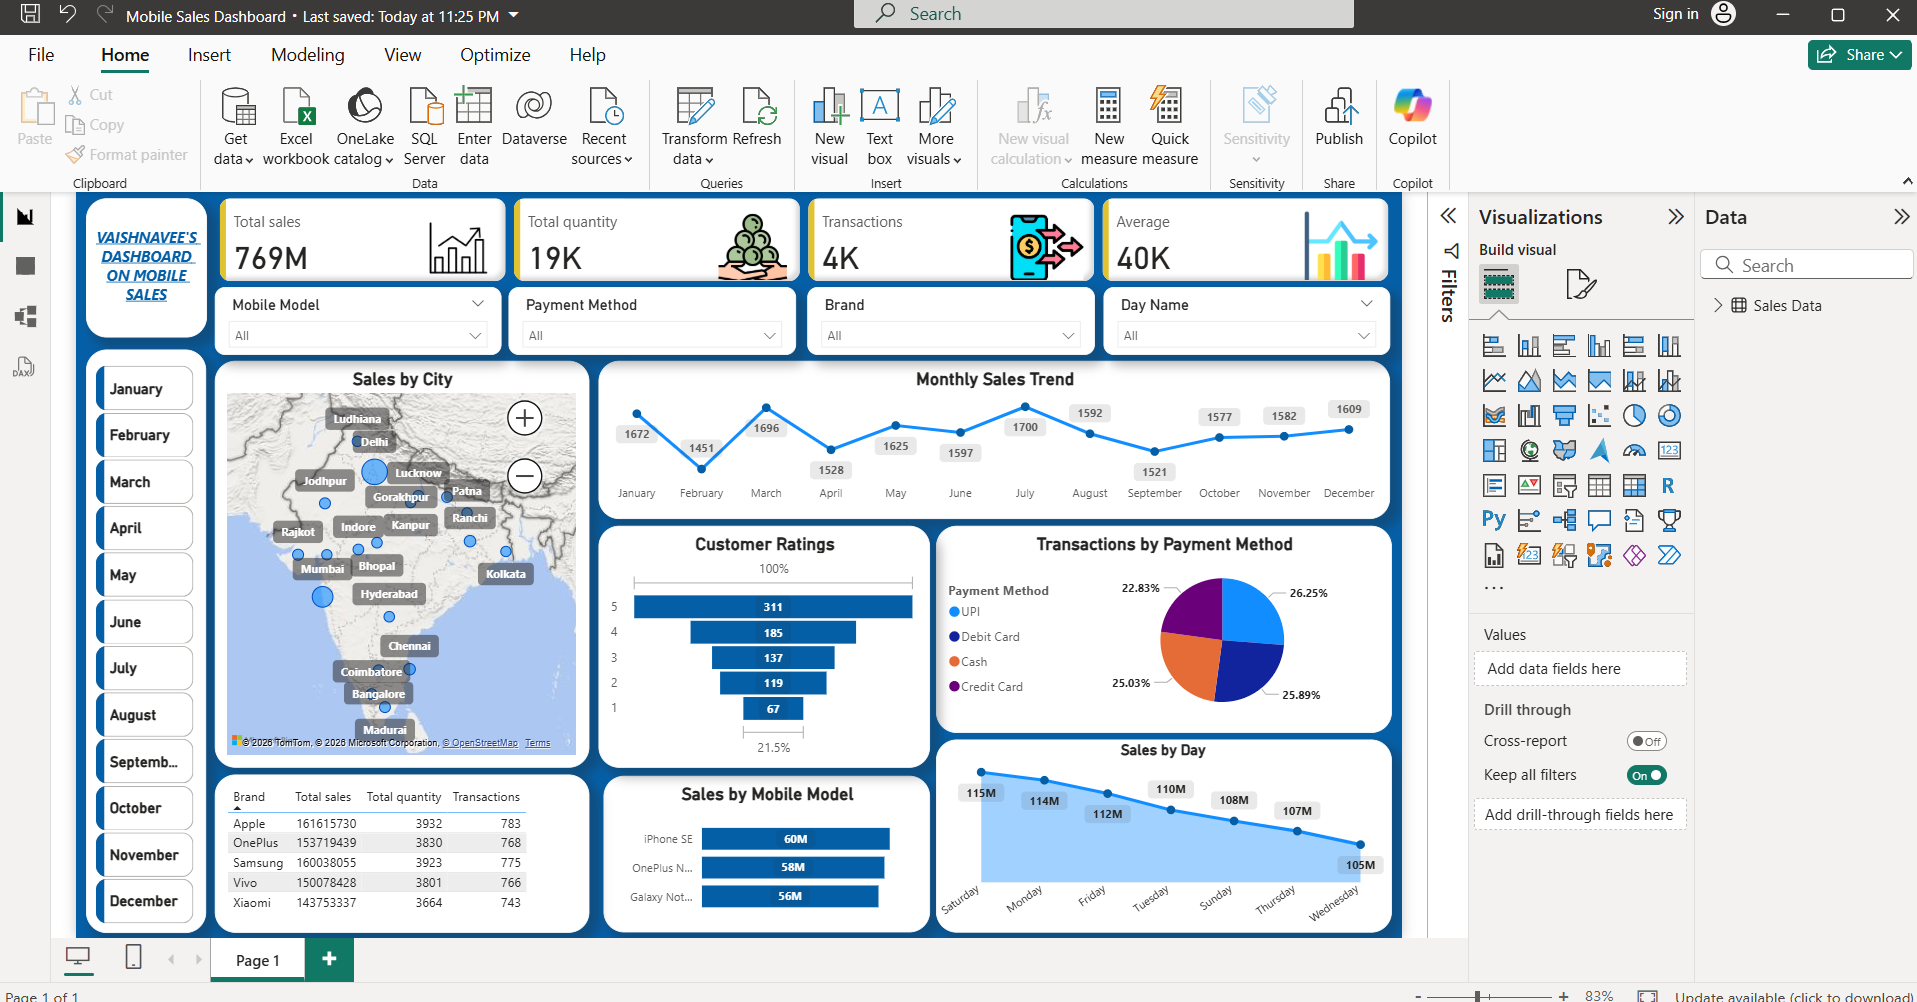

The page's visual inventory and layout, read from the dashboard file:
{"tool":"powerbi","page":{"name":"Page 1","canvas":[1280,720],"ordinal":0},"visuals":[{"type":"shape","box":[9.3,6.4,117.1,134.3],"z":0},{"type":"shape","box":[10,151.4,115.7,562.9],"z":1000},{"type":"advancedSlicerVisual","fields":{"Values":["Sales Data.Date.Variation.Date Hierarchy.Month"]},"box":[14.3,162.9,104.3,552.1],"z":2000},{"type":"cardVisual","fields":{"Data":["Sales Data.Total sales","Sales Data.Total quantity","Sales Data.Transactions","Sales Data.Average"]},"box":[134.3,6.4,1138.6,85.7],"z":3000},{"type":"map","title":"Sales by City","fields":{"Category":["Sales Data.City"],"Size":["Sales Data.Total sales"]},"box":[134.3,162.9,361.4,392.9],"z":4000},{"type":"lineChart","title":"Monthly Sales Trend","fields":{"Category":["Sales Data.Date.Variation.Date Hierarchy.Month","Sales Data.Date.Variation.Date Hierarchy.Day"],"Y":["Sales Data.Total quantity"]},"box":[504.3,162.9,764.3,152.9],"z":5000},{"type":"clusteredBarChart","title":"Sales by Mobile Model","fields":{"Category":["Sales Data.Mobile Model"],"Y":["Sales Data.Total sales"]},"box":[508.8,563.8,315,151.2],"z":6000},{"type":"pieChart","fields":{"Category":["Sales Data.Payment Method"],"Y":["Sales Data.Transactions"]},"box":[830,322.5,440,200],"z":7000},{"type":"funnel","title":"Customer Ratings ","fields":{"Y":["CountNonNull(Sales Data.Customer Ratings)"],"Category":["Sales Data.Customer Ratings"]},"box":[503.8,322.5,320,233.8],"z":8000},{"type":"areaChart","title":"Sales by Day","fields":{"Category":["Sales Data.Day Name"],"Y":["Sales Data.Total sales"]},"box":[830,528.8,440,186.2],"z":9000},{"type":"tableEx","fields":{"Values":["Sales Data.Brand","Sales Data.Total sales","Sales Data.Total quantity","Sales Data.Transactions"]},"box":[133.8,562.5,361.2,152.5],"z":10000},{"type":"slicer","fields":{"Values":["Sales Data.Mobile Model"]},"box":[134.3,92.1,277.1,65.7],"z":11000},{"type":"slicer","fields":{"Values":["Sales Data.Payment Method"]},"box":[417.1,92.1,277.9,65.7],"z":12000},{"type":"slicer","fields":{"Values":["Sales Data.Brand"]},"box":[705.7,92.1,277.9,65.7],"z":13000},{"type":"slicer","fields":{"Values":["Sales Data.Day Name"]},"box":[991.4,92.1,277.1,65.7],"z":14000},{"type":"textbox","box":[10,29.1,116.4,90],"z":15000}]}

Visuals, with their boxes on the page's 1280x720 design canvas (x1, y1, x2, y2). These are canvas units, not pixel positions in the 1917x1002 screenshot, which may show the page scaled, cropped or inside an application window:
shape: bbox=(9, 6, 126, 141)
shape: bbox=(10, 151, 126, 714)
advancedSlicerVisual - Sales Data.Date.Variation.Date Hierarchy.Month: bbox=(14, 163, 119, 715)
cardVisual - Sales Data.Total sales x Sales Data.Total quantity: bbox=(134, 6, 1273, 92)
"Sales by City" map: bbox=(134, 163, 496, 556)
"Monthly Sales Trend" lineChart: bbox=(504, 163, 1269, 316)
"Sales by Mobile Model" clusteredBarChart: bbox=(509, 564, 824, 715)
pieChart - Sales Data.Payment Method x Sales Data.Transactions: bbox=(830, 322, 1270, 522)
"Customer Ratings " funnel: bbox=(504, 322, 824, 556)
"Sales by Day" areaChart: bbox=(830, 529, 1270, 715)
tableEx - Sales Data.Brand x Sales Data.Total sales: bbox=(134, 562, 495, 715)
slicer - Sales Data.Mobile Model: bbox=(134, 92, 411, 158)
slicer - Sales Data.Payment Method: bbox=(417, 92, 695, 158)
slicer - Sales Data.Brand: bbox=(706, 92, 984, 158)
slicer - Sales Data.Day Name: bbox=(991, 92, 1268, 158)
textbox: bbox=(10, 29, 126, 119)
